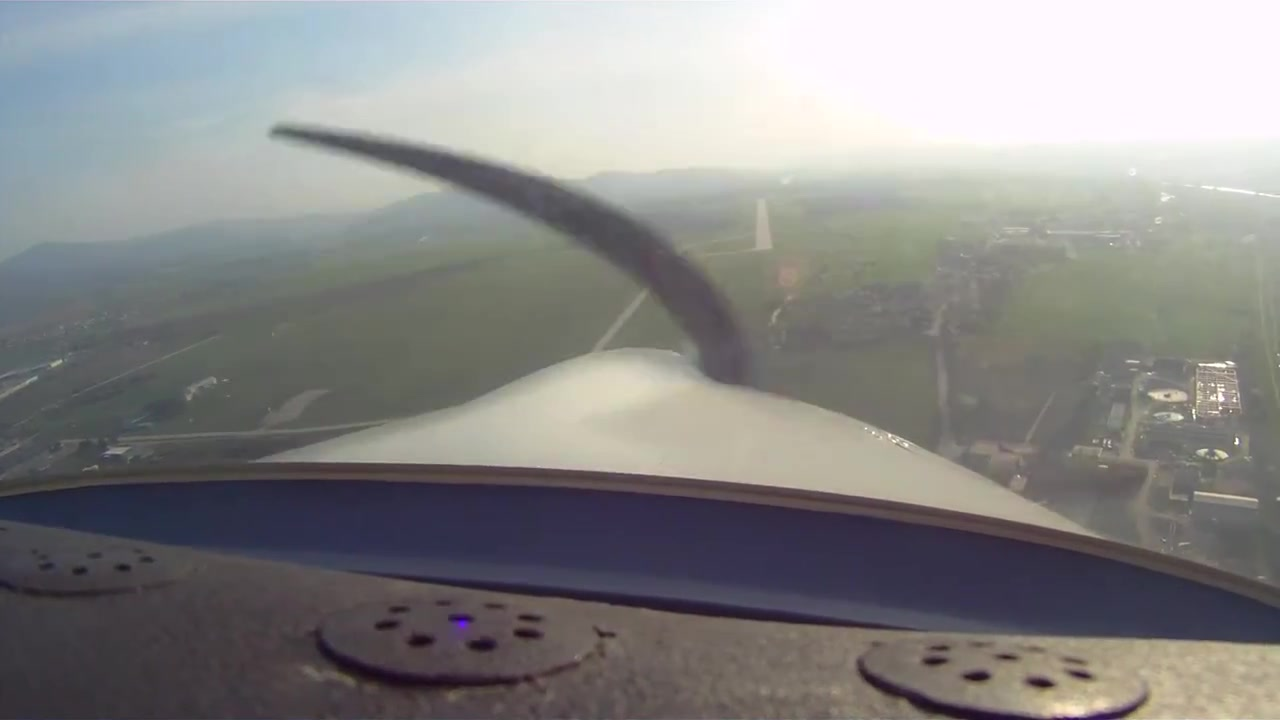runway: (753, 198, 773, 253)
